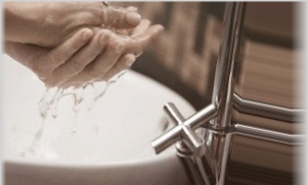washing hand: (23, 0, 174, 129)
